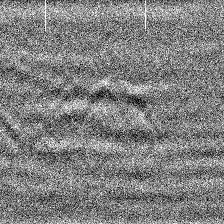Utility: (64, 79, 150, 129)
